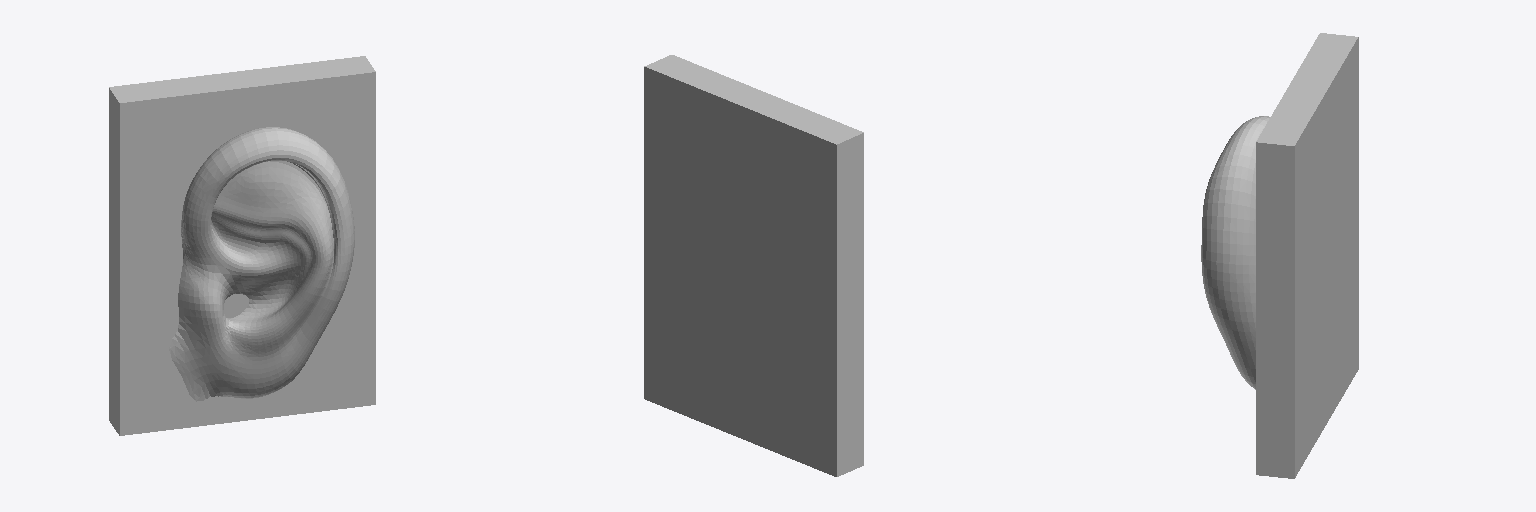
The model's file is Ear.obj.
The picture shows the model from 3 angles: view 1: azimuth 30°, elevation 25°; view 2: azimuth 150°, elevation 25°; view 3: azimuth 270°, elevation 25°; orthographic projection.
Visible parts, largest first — view 1: 立方体, head; view 2: 立方体; view 3: 立方体, head.
Boxes of the visible parts, x1,y1,x2,y2 form: 立方体: [109, 56, 375, 435]; head: [169, 127, 354, 401]; 立方体: [644, 55, 863, 476]; 立方体: [1256, 33, 1358, 478]; head: [1201, 116, 1269, 389].
Bounding box in the file's own units: 242 × 331 × 142.